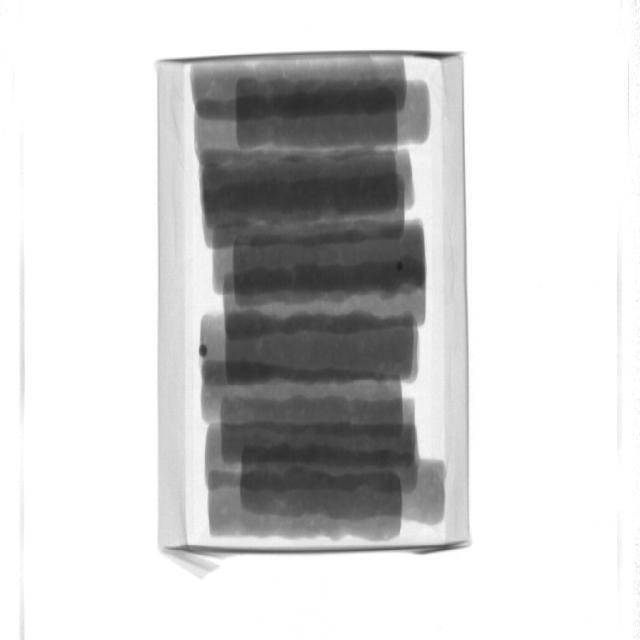ym: (201, 345, 210, 357), (397, 263, 404, 272)
